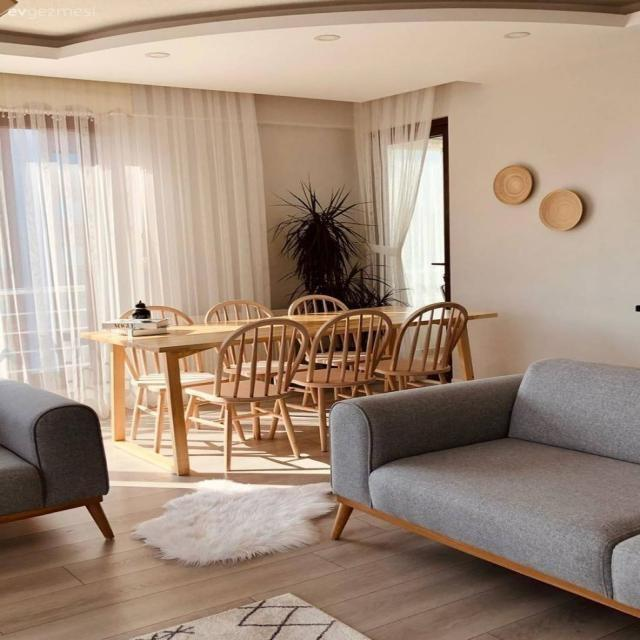obstacle: (328, 356, 639, 619), (79, 306, 498, 476), (0, 378, 115, 544), (183, 318, 301, 464)
